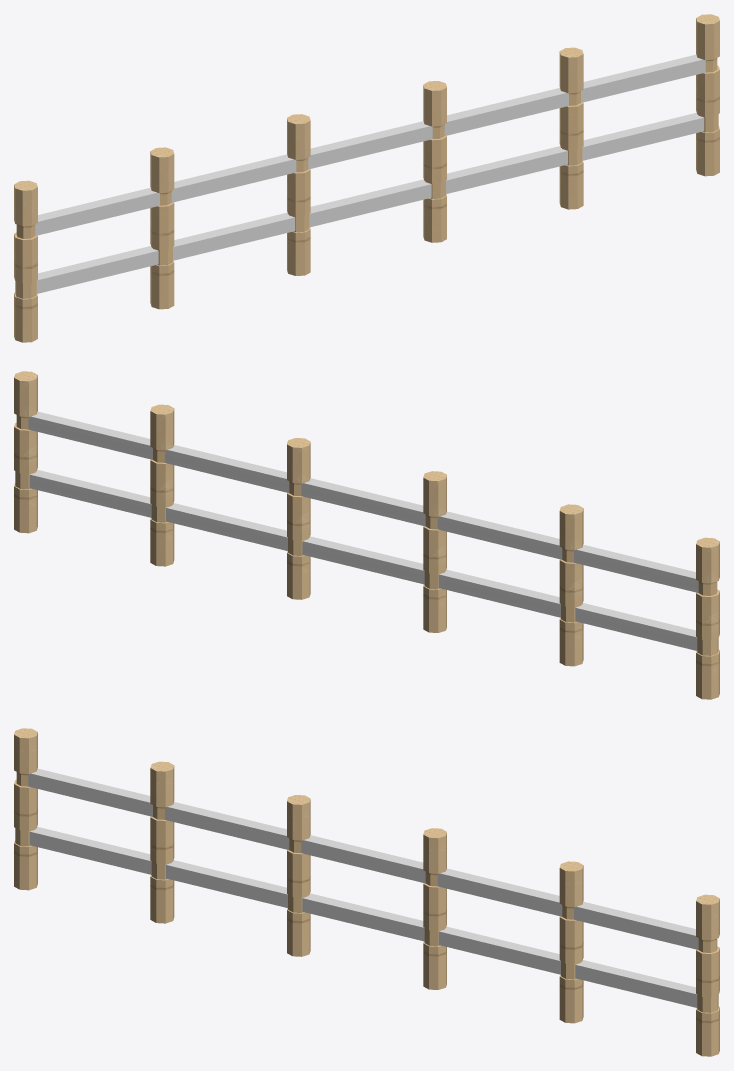
Rendered from StairBar.fbx.
The picture shows the model from 3 angles, top to bottom: view 1: azimuth 30°, elevation 25°; view 2: azimuth 150°, elevation 25°; view 3: azimuth 330°, elevation 25°; orthographic projection.
Visible parts, largest first — view 1: Cylinder; view 2: Cylinder; view 3: Cylinder.
Boxes of the visible parts, x1,y1,x2,y2 form: Cylinder: [14, 14, 719, 342]; Cylinder: [14, 371, 719, 699]; Cylinder: [14, 728, 719, 1056].
Size of the model in its own units: 750 by 155 by 22.86.
2 materials, 2 textured.
